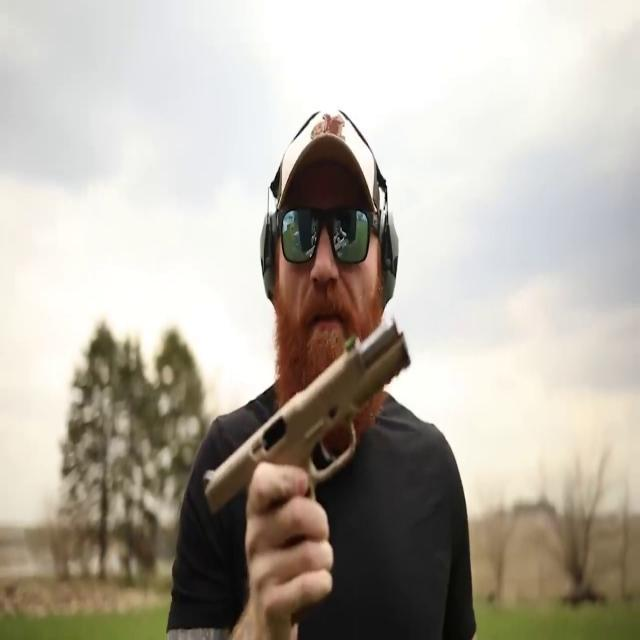Handgun: (206, 318, 413, 574)
